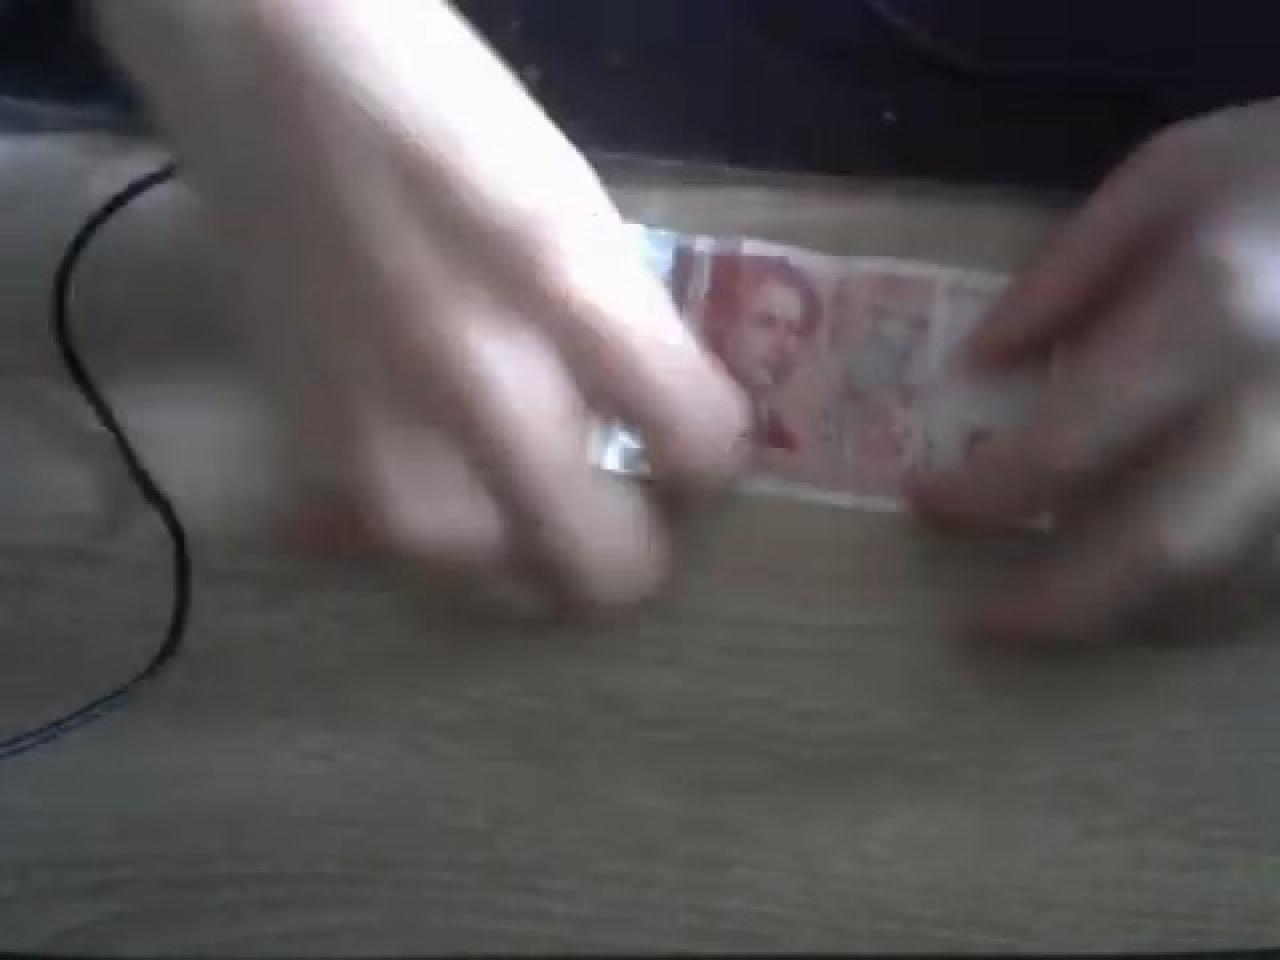5leva: (677, 240, 1008, 496)
